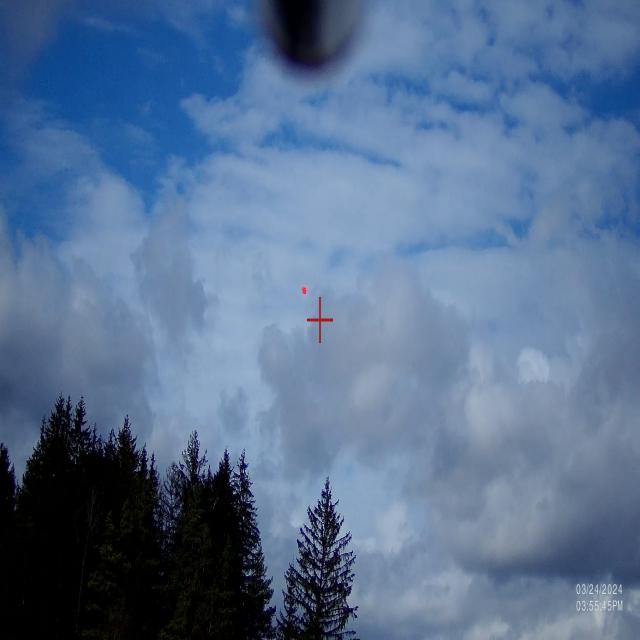entire: (297, 280, 308, 302)
